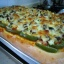pizza: (1, 7, 63, 57)
